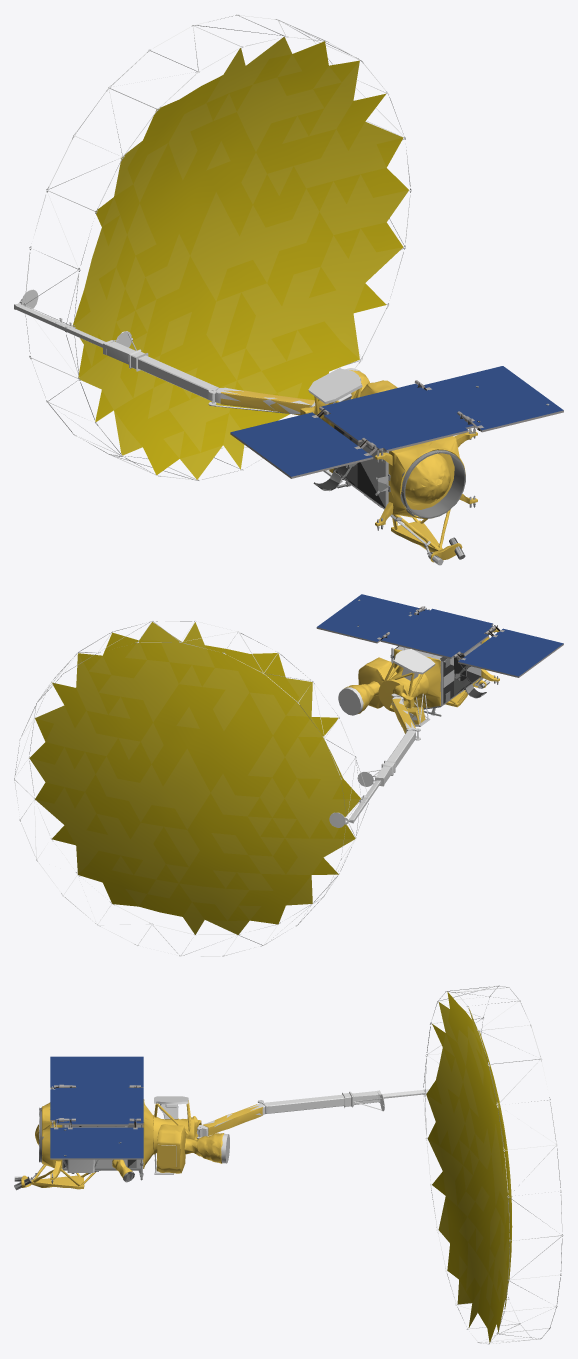
File: smap.glb
3 renders of one model, top to bottom at view 1: azimuth 30°, elevation 25°; view 2: azimuth 150°, elevation 25°; view 3: azimuth 270°, elevation 25°, orthographic. The views are drawn at different scales.
Parts seen in each view (by area): view 1: foil, solar-panel, body; view 2: foil, solar-panel, body; view 3: foil, solar-panel, body.
Part boxes in pixels (left/top/right/bottom): foil: left=72, top=37, right=477, bottom=562; solar-panel: left=230, top=366, right=563, bottom=478; body: left=14, top=14, right=549, bottom=565; foil: left=29, top=622, right=499, bottom=934; solar-panel: left=316, top=594, right=563, bottom=677; body: left=14, top=599, right=498, bottom=956; foil: left=21, top=991, right=512, bottom=1343; solar-panel: left=50, top=1056, right=143, bottom=1159; body: left=14, top=985, right=563, bottom=1344.
Size of the model in its own units: 6.42 by 6.19 by 9.52.
